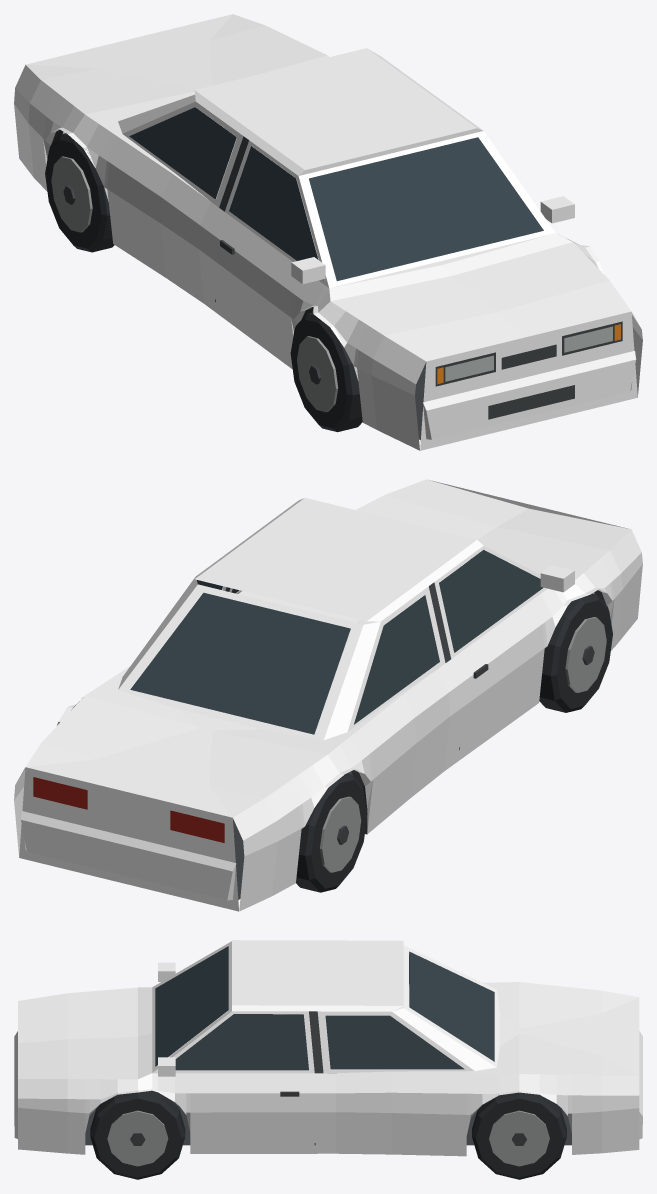
Rendered from hayase_kiri.glb.
3 views of the same model, one above another, from view 1: azimuth 30°, elevation 25°; view 2: azimuth 150°, elevation 25°; view 3: azimuth 270°, elevation 25° (orthographic). The views are drawn at different scales.
Parts seen in each view (by area): view 1: hayase_kiri; view 2: hayase_kiri; view 3: hayase_kiri.
Boxes of the visible parts, x1,y1,x2,y2 form: hayase_kiri: [14, 14, 642, 450]; hayase_kiri: [14, 479, 642, 911]; hayase_kiri: [14, 940, 642, 1179].
Size of the model in its own units: 1.7 by 1.19 by 4.3.
8 materials, 1 textured.
